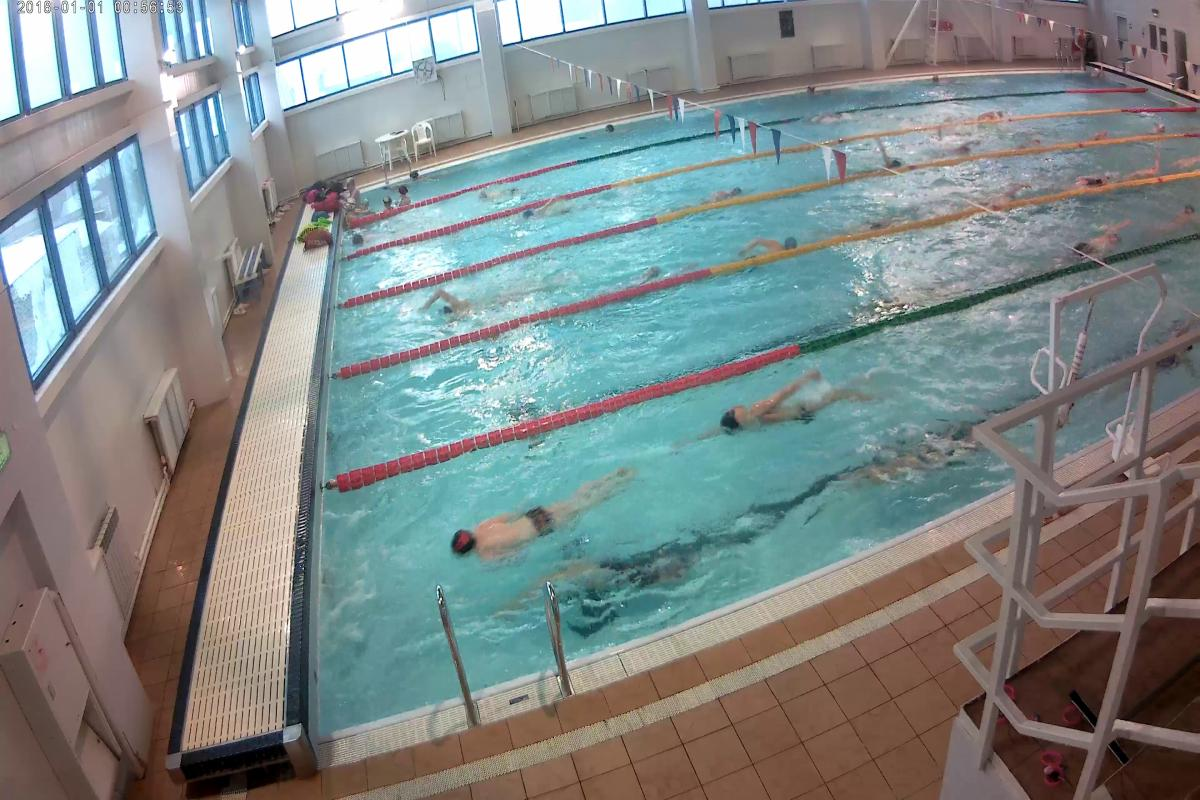swimmer: (442, 467, 624, 565), (685, 367, 859, 445), (514, 557, 715, 607), (870, 438, 981, 488), (1064, 213, 1138, 258), (418, 283, 470, 323), (739, 228, 805, 256), (518, 201, 568, 224), (1166, 196, 1200, 227), (1068, 169, 1117, 190), (703, 181, 752, 200)
